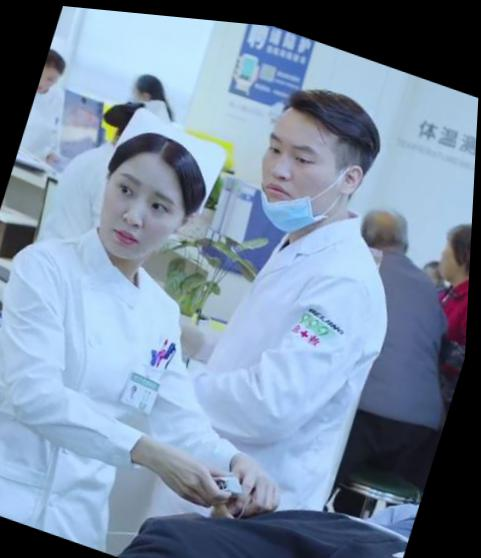NONE: (90, 153, 187, 269)
WRONG: (249, 109, 347, 228)
